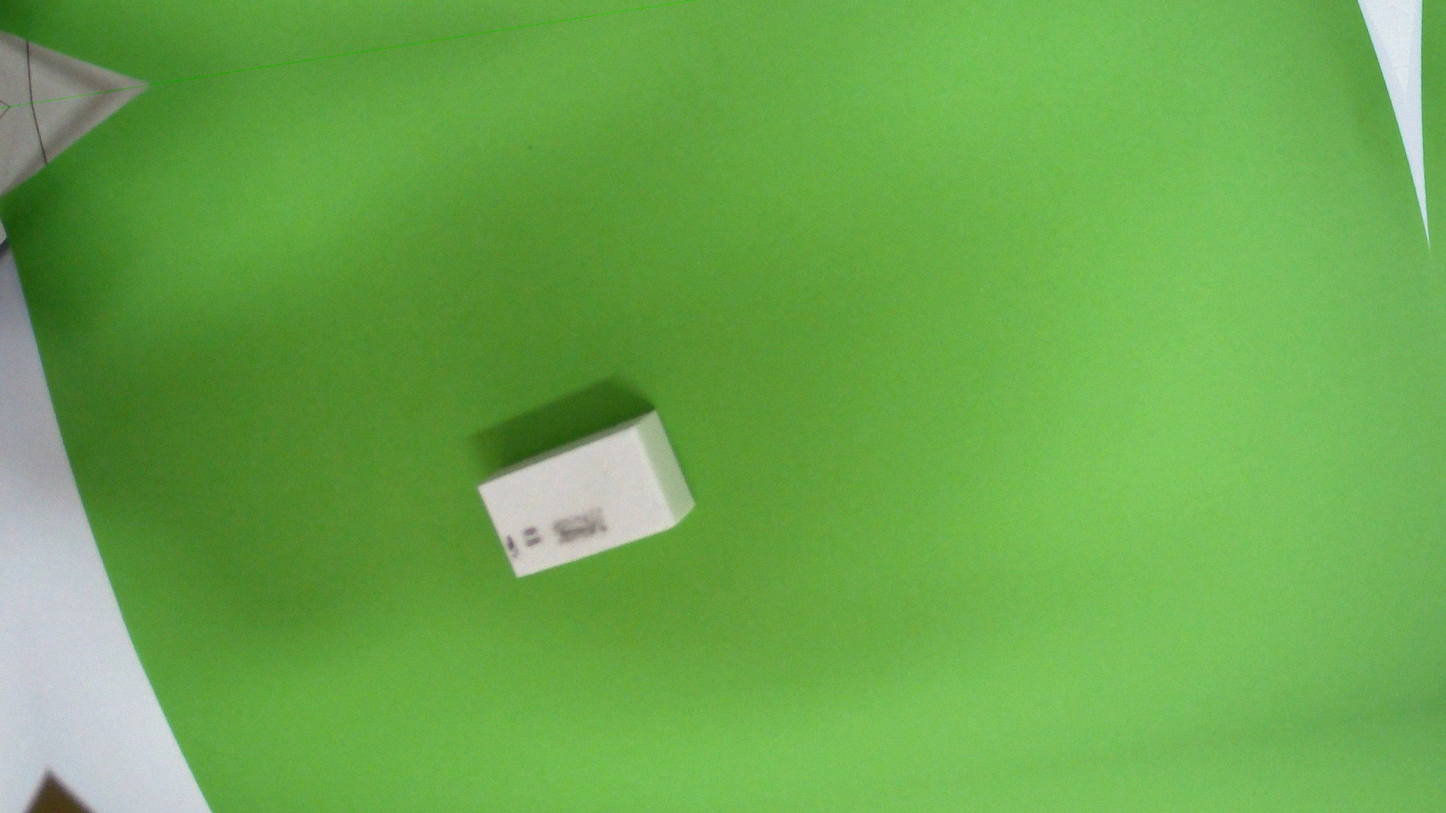gom: (471, 399, 701, 589)
